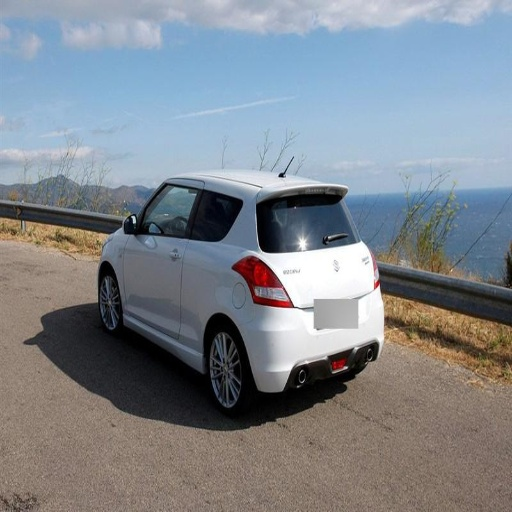back_bumper: (237, 293, 382, 392)
back_glass: (258, 195, 356, 251)
back_left_door: (177, 183, 208, 345)
